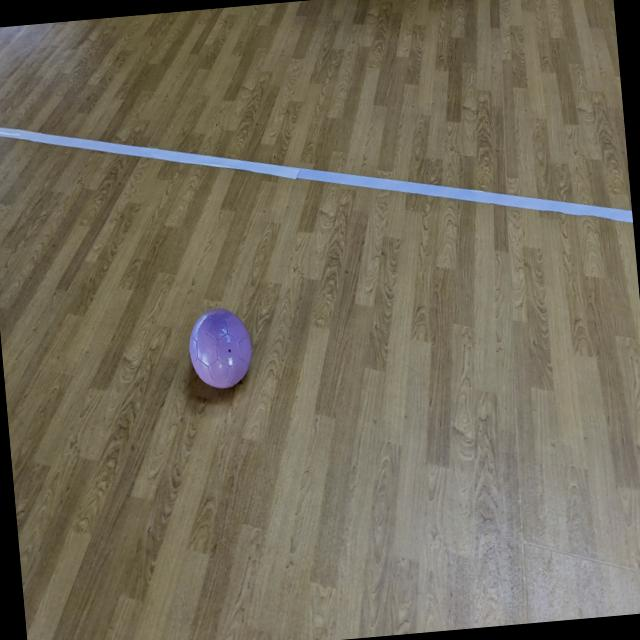purple_ball: (185, 308, 254, 392)
